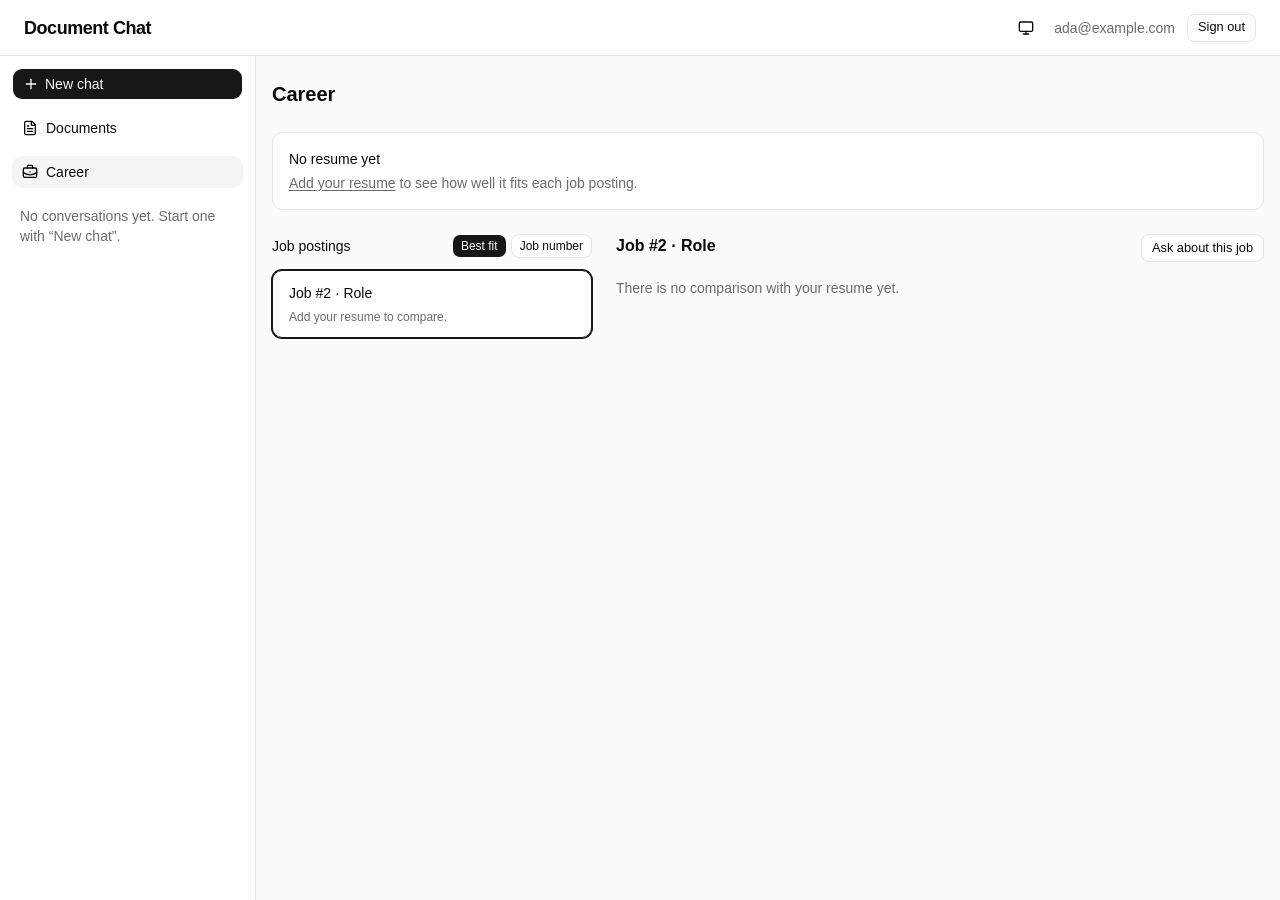
Test: the Career page › asking about a posting › limits the chat to the posting alone when there is no resume
Click the button "Ask about this job" at (1202, 248), box [1141,234,1264,262]
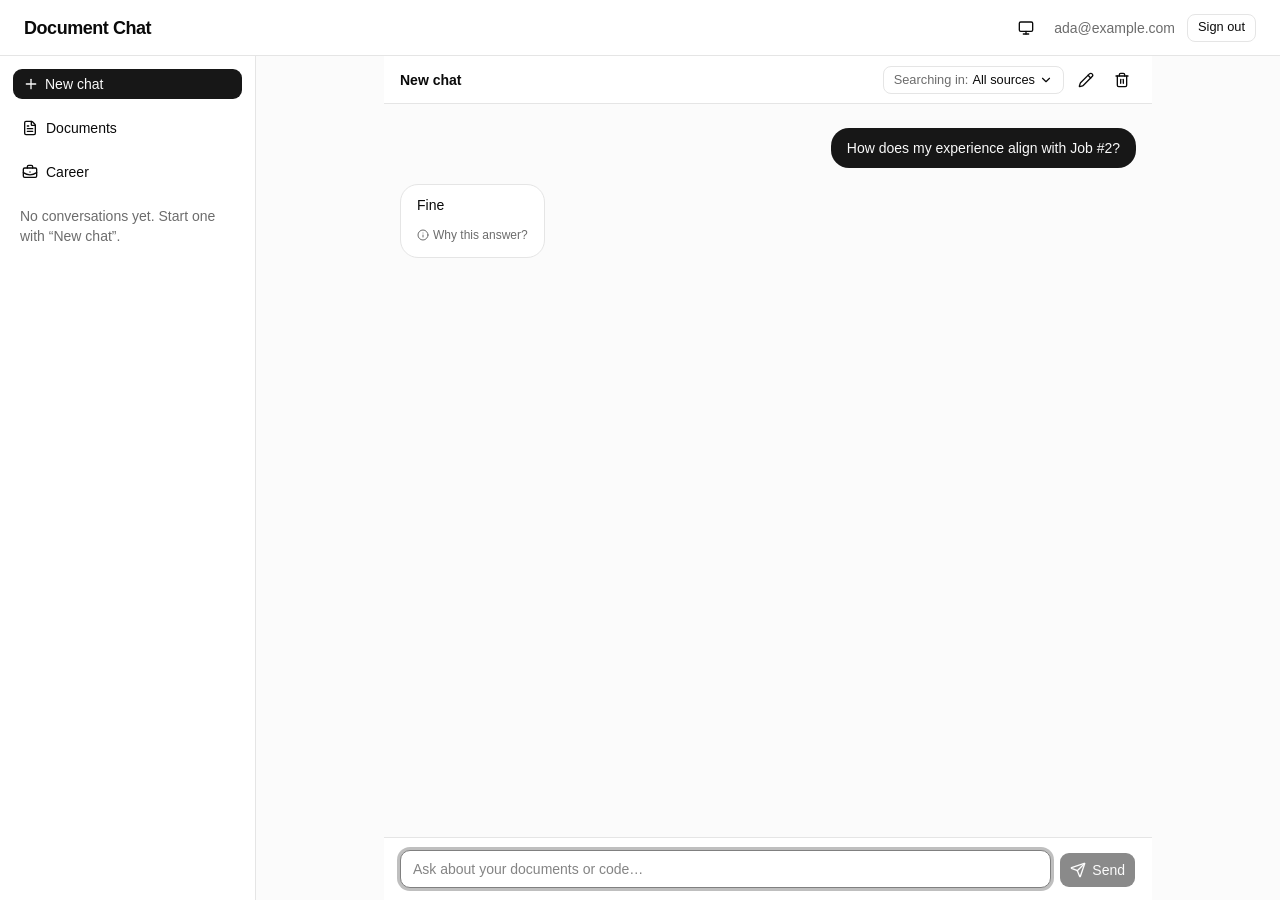
Expected: the text "Fine" is shown, [417,197,444,213]
